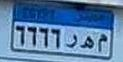6: (50, 27, 62, 50), (16, 24, 26, 48), (39, 26, 49, 49), (27, 24, 37, 47)
haa: (80, 34, 95, 52)
meem: (96, 32, 108, 54)
raa: (63, 31, 78, 51)
